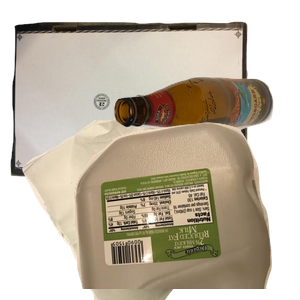cardboard: (10, 19, 250, 199)
glass: (111, 74, 300, 204)
plastic: (71, 120, 300, 300)
trash: (20, 120, 260, 300)
